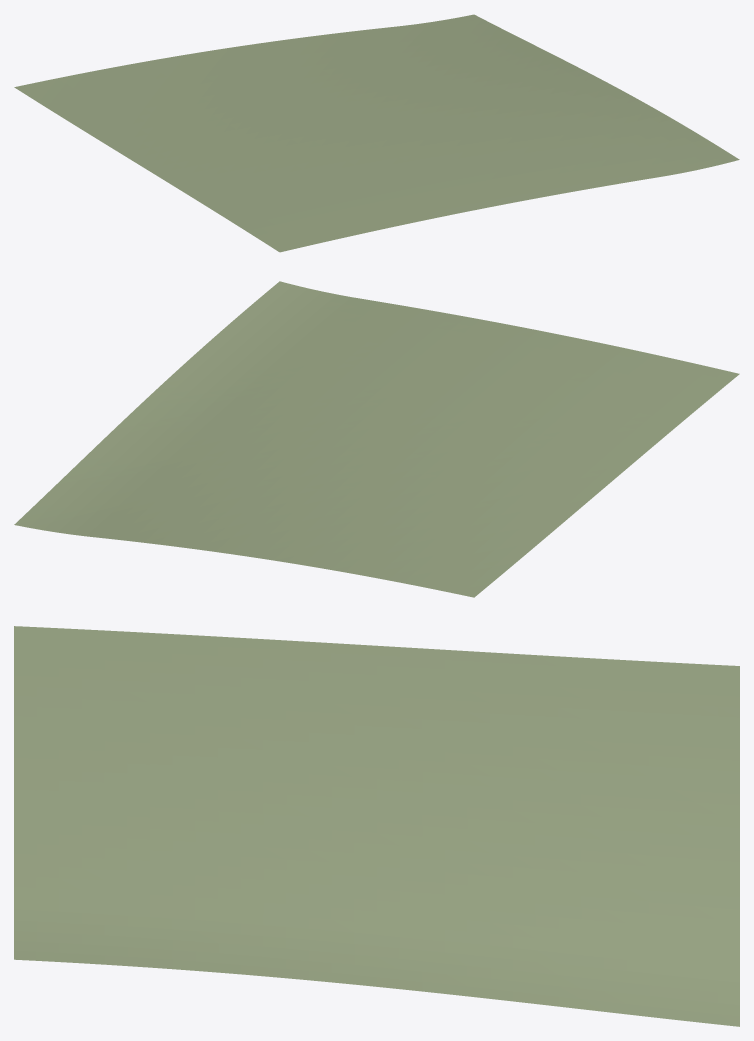
The model's file is expanse-23-11.glb.
The picture shows the model from 3 angles, top to bottom: view 1: azimuth 30°, elevation 25°; view 2: azimuth 150°, elevation 25°; view 3: azimuth 270°, elevation 25°; orthographic projection. The views are drawn at different scales.
Visible parts, largest first — view 1: expanse-23-11; view 2: expanse-23-11; view 3: expanse-23-11.
Part boxes in pixels (x1=…): expanse-23-11: x1=14, y1=14, x2=739, y2=252; expanse-23-11: x1=14, y1=281, x2=739, y2=597; expanse-23-11: x1=14, y1=626, x2=739, y2=1026.
Size of the model in its own units: 256 by 36.57 by 256.
